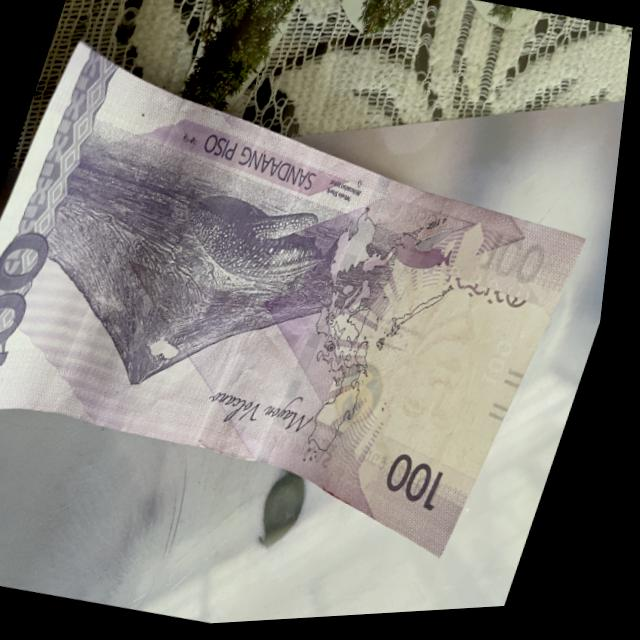100_whale: (159, 180, 368, 319)
100_whale_watermark: (373, 202, 481, 295)
value_watermark: (473, 326, 536, 411)
watermark: (350, 256, 561, 524)
